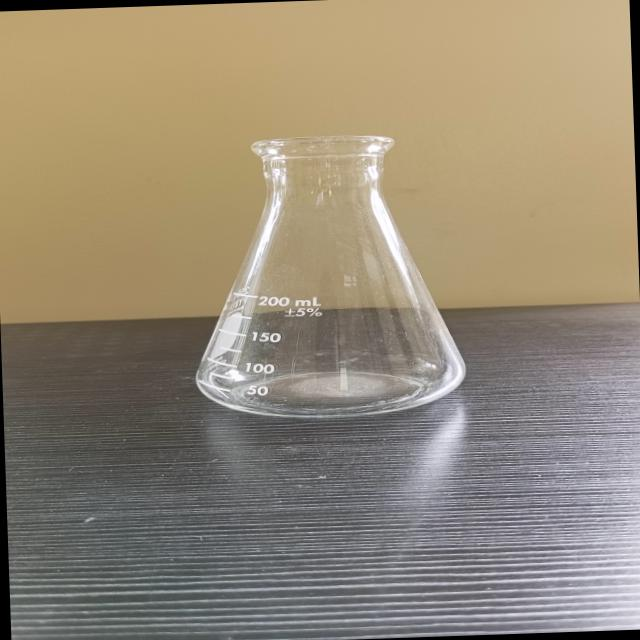erlenmeyer_flask: (180, 120, 482, 432)
